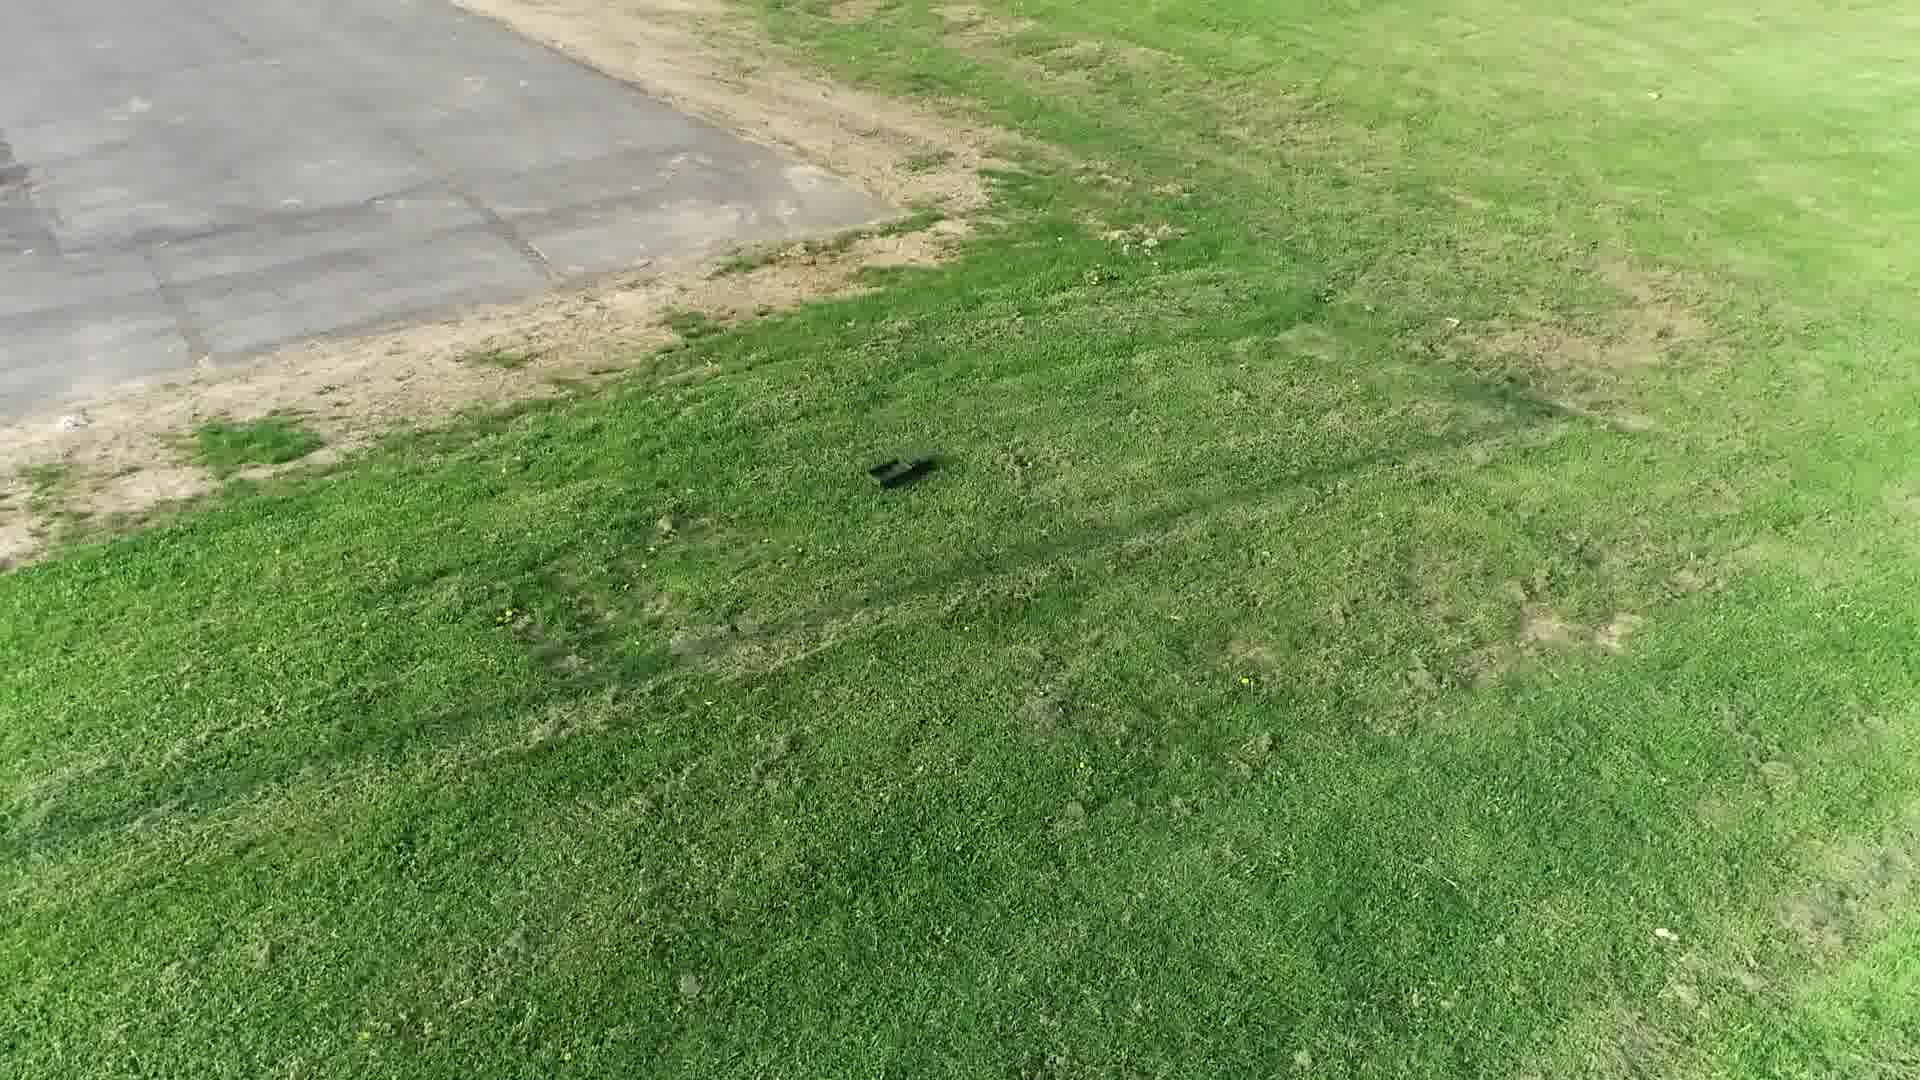transporter9: (862, 452, 926, 492)
